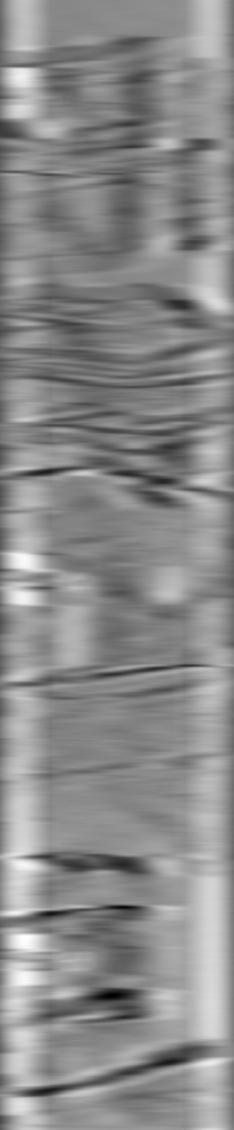hplug: (8, 81, 91, 160), (128, 546, 213, 618), (41, 934, 108, 1002)
vplug: (135, 847, 220, 1070), (121, 50, 201, 246), (22, 549, 108, 688)
